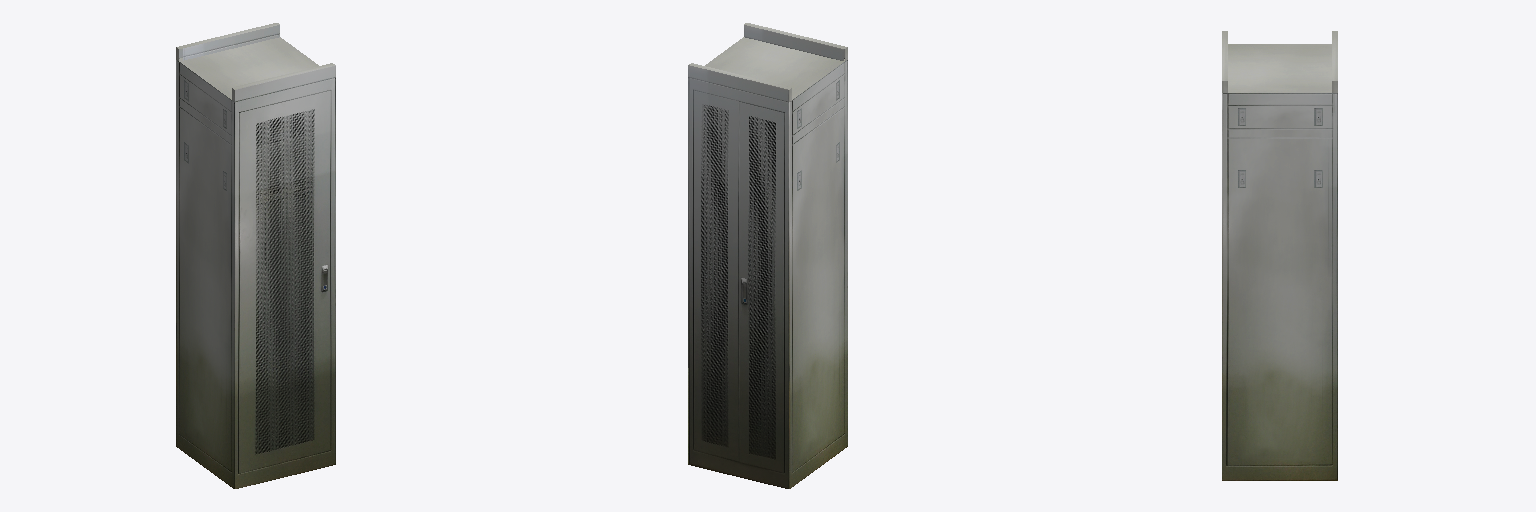
3 views of the same model, side by side, from view 1: azimuth 30°, elevation 25°; view 2: azimuth 150°, elevation 25°; view 3: azimuth 270°, elevation 25° (orthographic).
Parts seen in each view (by area): view 1: 2guizi_01; view 2: 2guizi_01; view 3: 2guizi_01.
Part boxes in pixels (bbox=[...]): 2guizi_01: bbox=[176, 23, 335, 488]; 2guizi_01: bbox=[688, 23, 847, 488]; 2guizi_01: bbox=[1222, 31, 1337, 480].
Size of the model in its own units: 6 by 22.71 by 6.
2 materials, 2 textured.